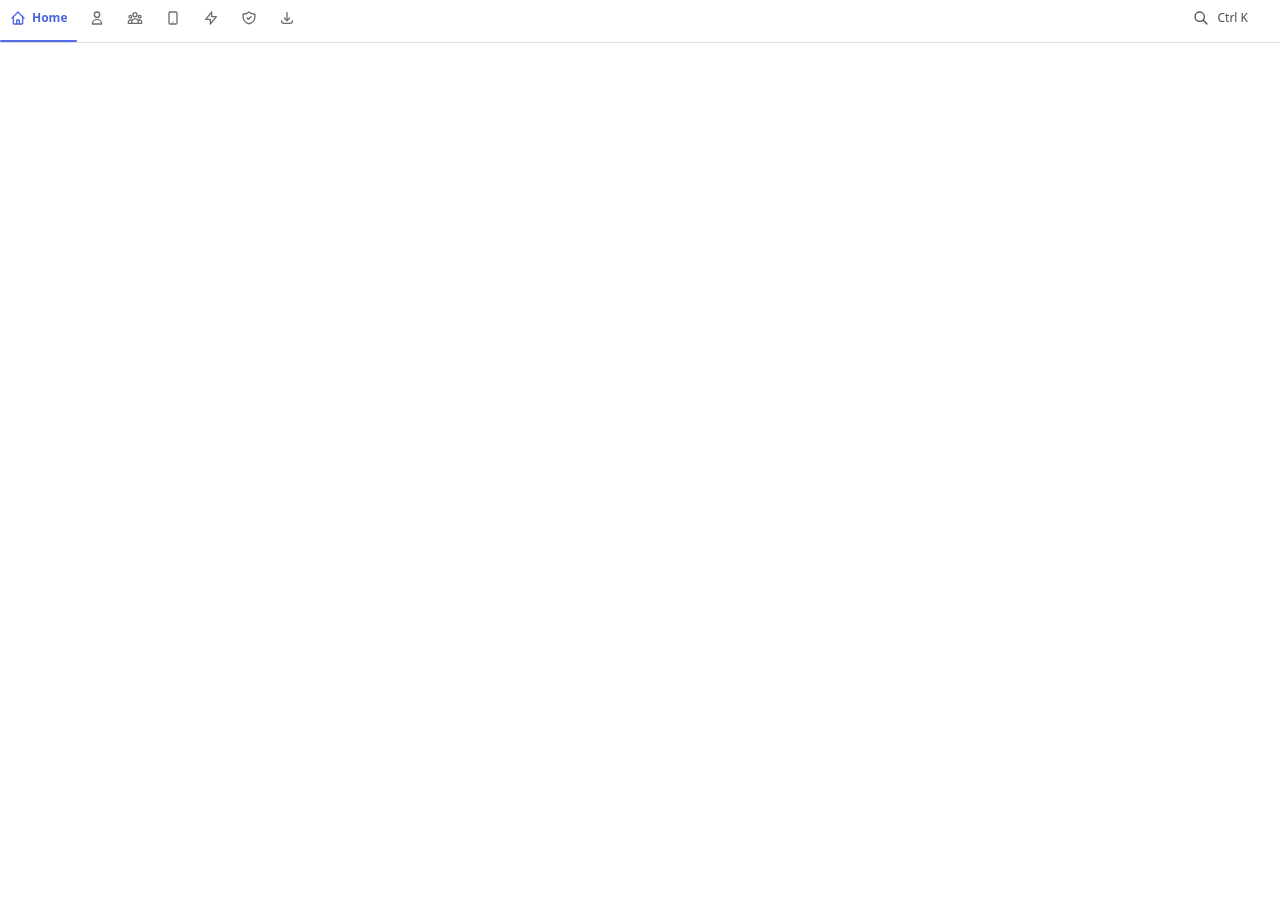
Test: TabNavigation ⌘K affordance › reaches a section the rail has no seat for
The width and height of the screenshot is (1280, 900).
Expected: the tab "History" is not shown
Click the button named "Search and jump to a section, Ctrl K": (1221, 18) [1182,0,1260,36]
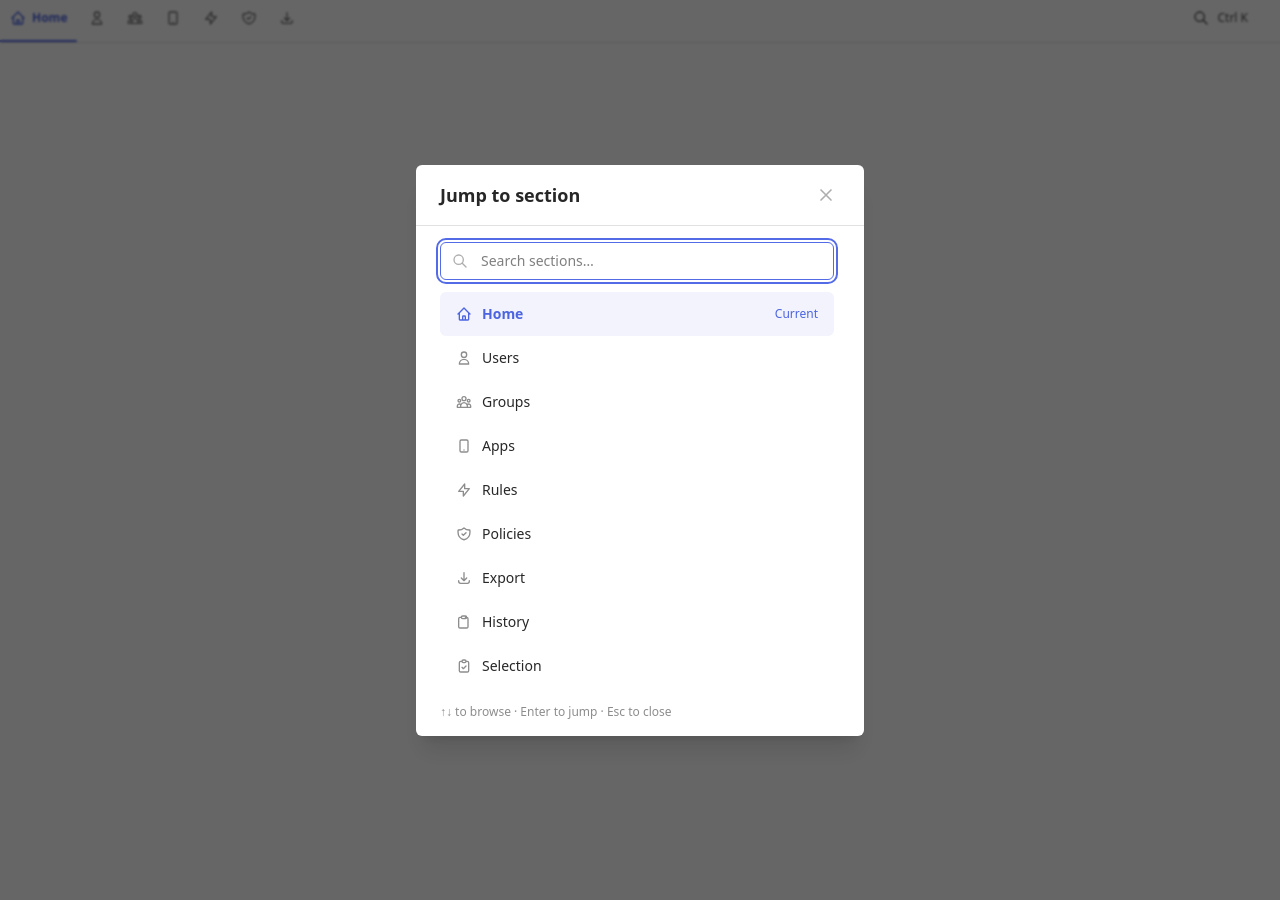
Click the button "History": (506, 621) [440,600,834,644]
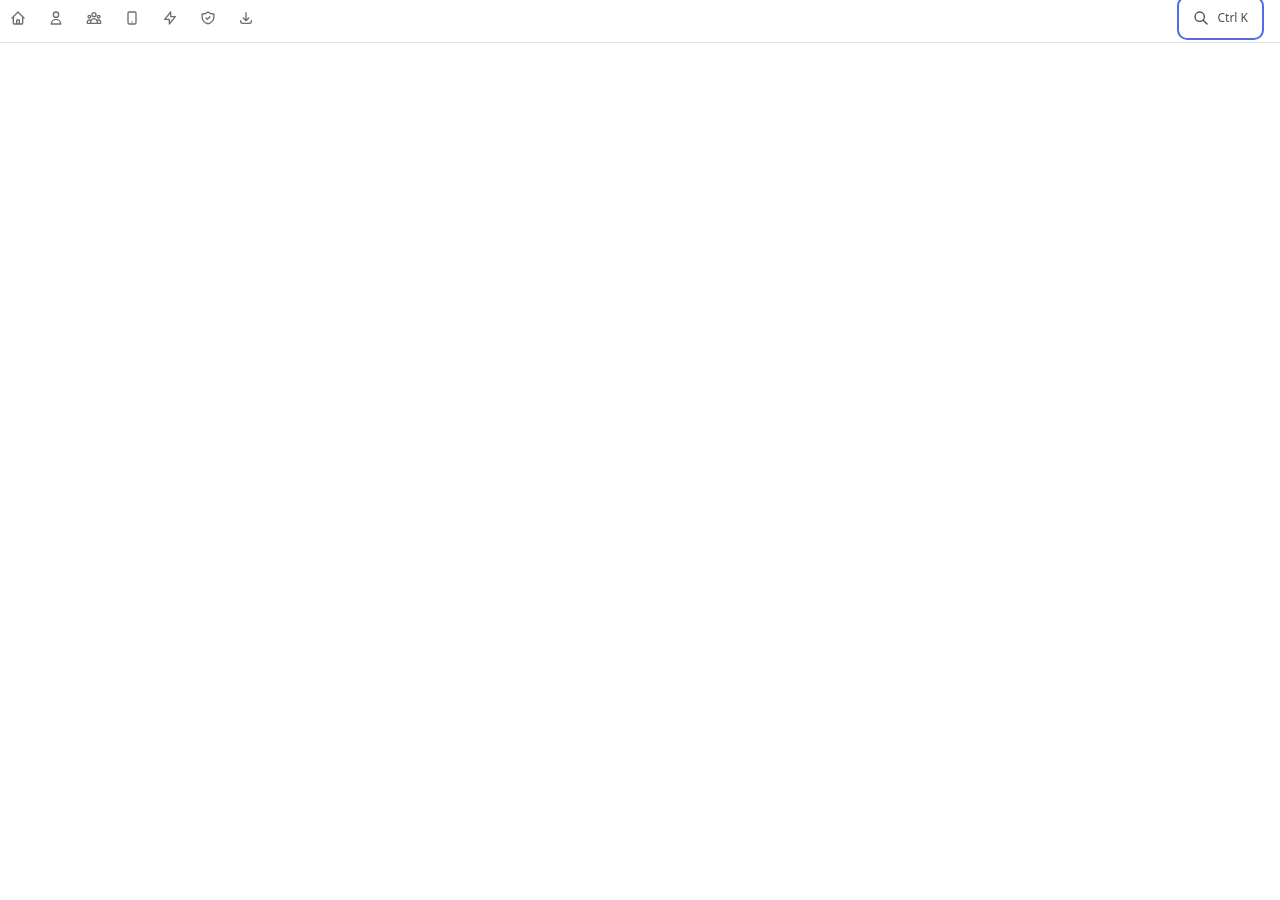
Result: the dialog is gone
